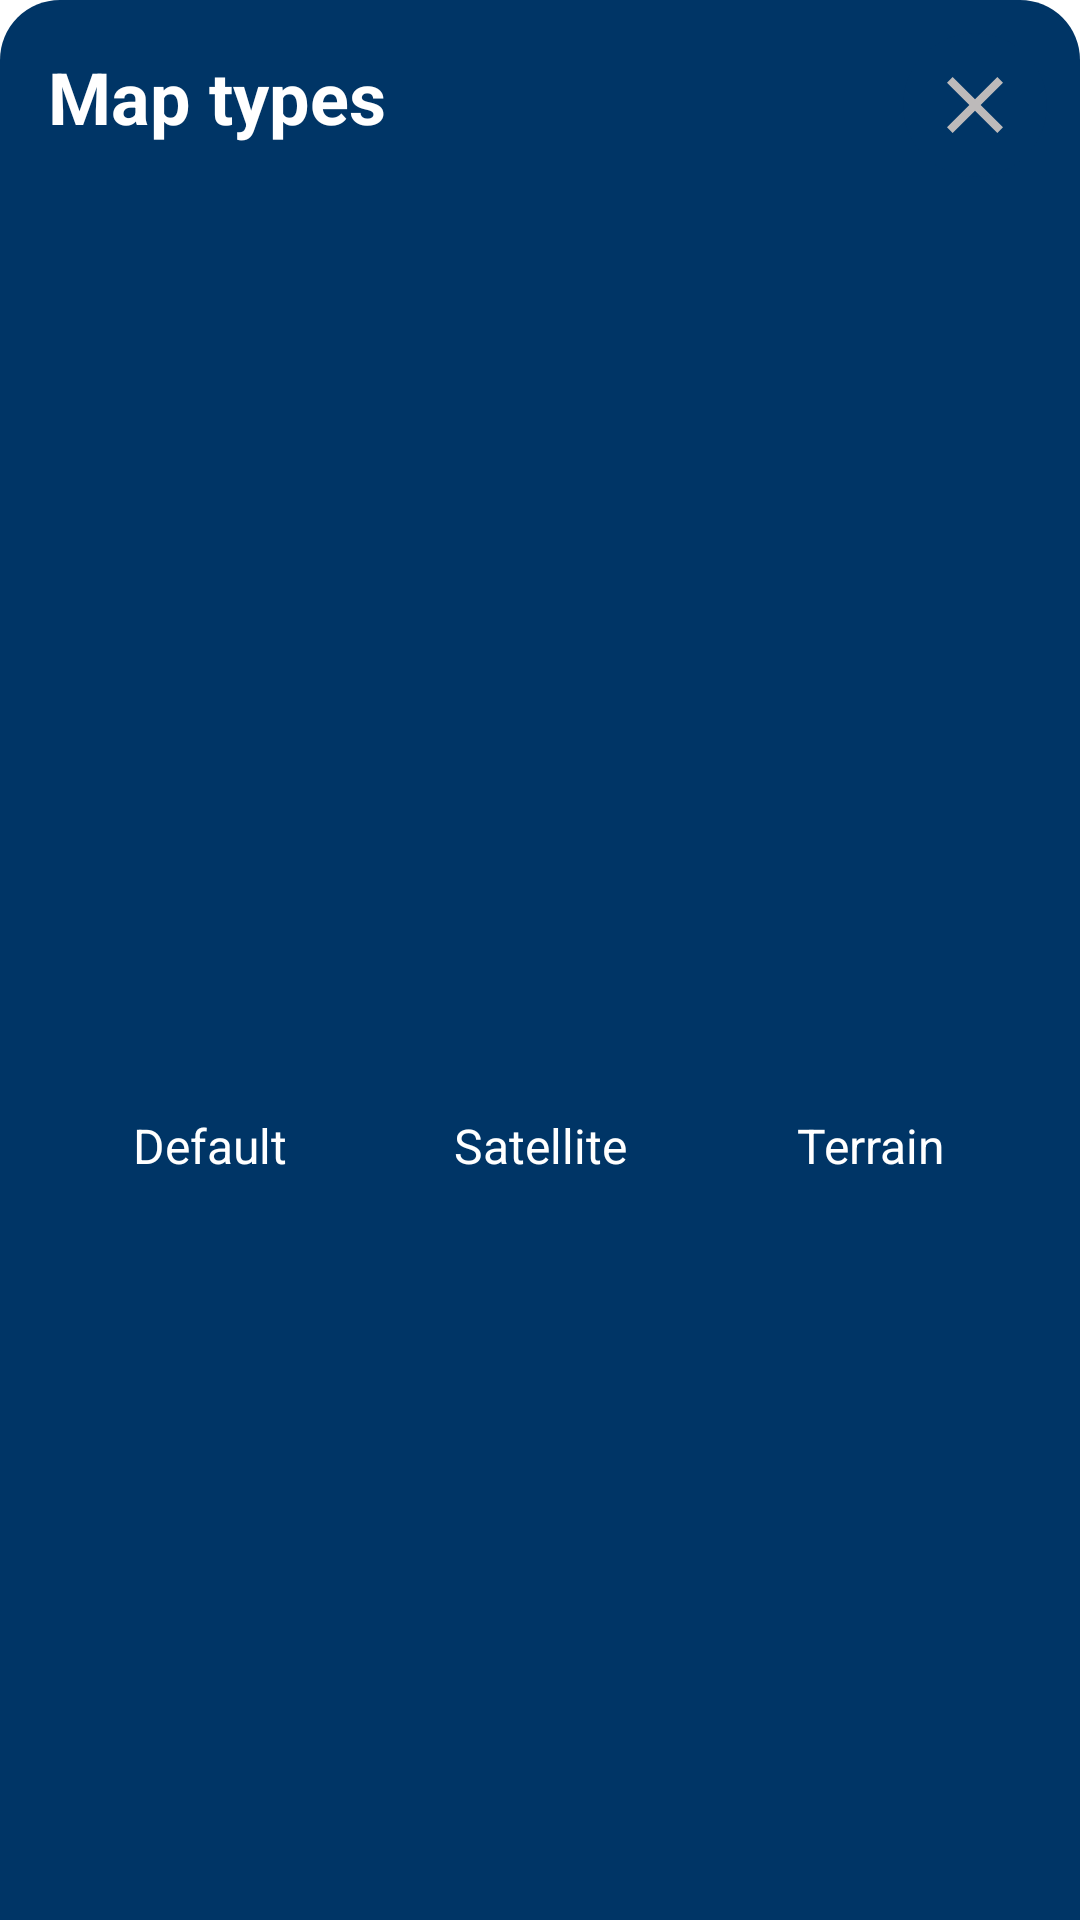

Icons on this 1080px x 1920px Android screen, each with its box as (x1, y1, x2, y2):
Close: (947, 77, 1003, 133)
